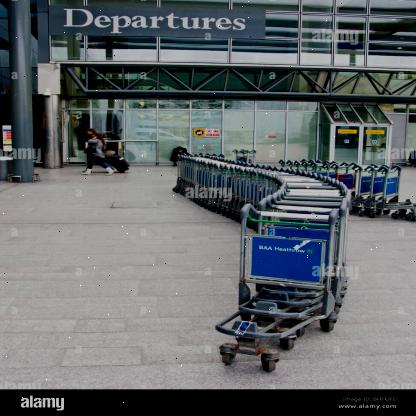airport-trolley: (167, 152, 354, 372), (215, 202, 337, 373), (256, 196, 340, 350), (275, 156, 416, 224), (377, 164, 416, 222)
